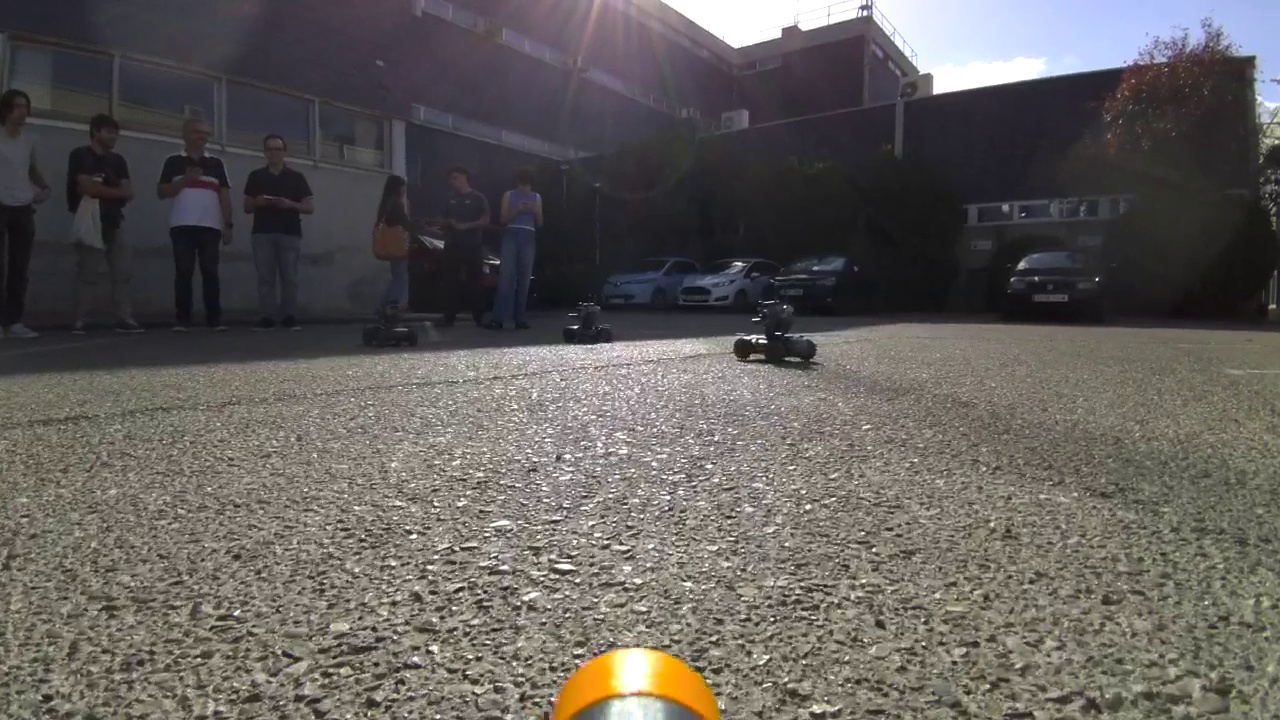robot: (733, 300, 822, 370), (357, 294, 428, 357), (548, 296, 616, 346)
